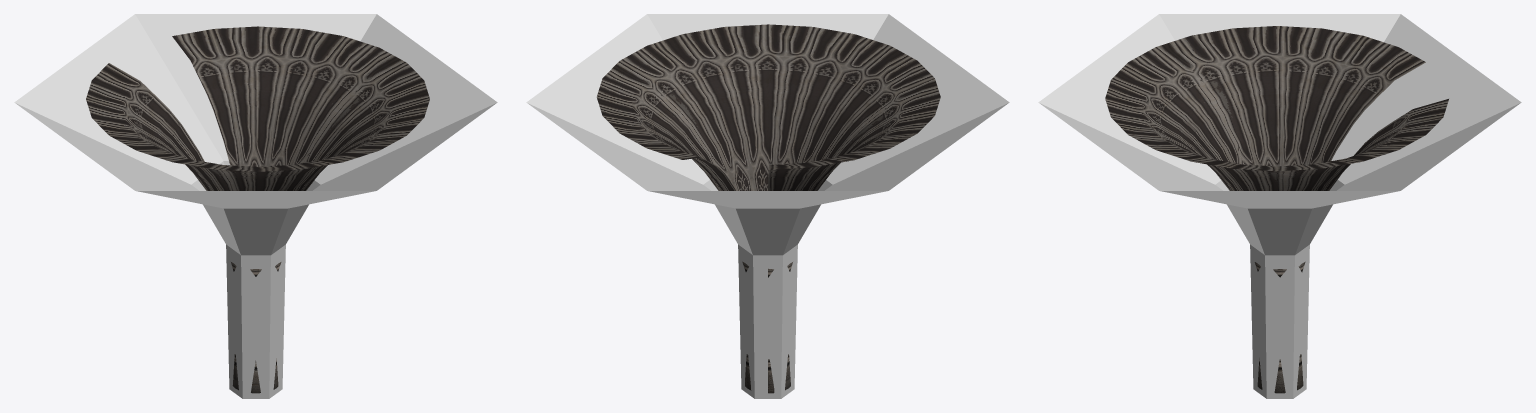
The model's file is ColumnARCHFlare.fbx.
3 renders of one model, left to right at view 1: azimuth 30°, elevation 25°; view 2: azimuth 150°, elevation 25°; view 3: azimuth 270°, elevation 25°, orthographic.
Visible parts, largest first — view 1: ColumnCollMesh, StoneFlareColumn; view 2: StoneFlareColumn, ColumnCollMesh; view 3: ColumnCollMesh, StoneFlareColumn.
Boxes of the visible parts, <box> form: ColumnCollMesh: <box>14,14,497,398</box>; StoneFlareColumn: <box>86,26,429,393</box>; StoneFlareColumn: <box>596,24,940,393</box>; ColumnCollMesh: <box>526,14,1009,398</box>; ColumnCollMesh: <box>1038,14,1521,398</box>; StoneFlareColumn: <box>1105,26,1448,393</box>.
Bounding box in the file's own units: 787 × 603 × 909.
